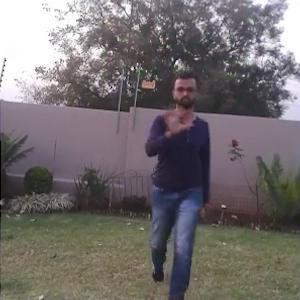follow_hand: (155, 102, 191, 136)
